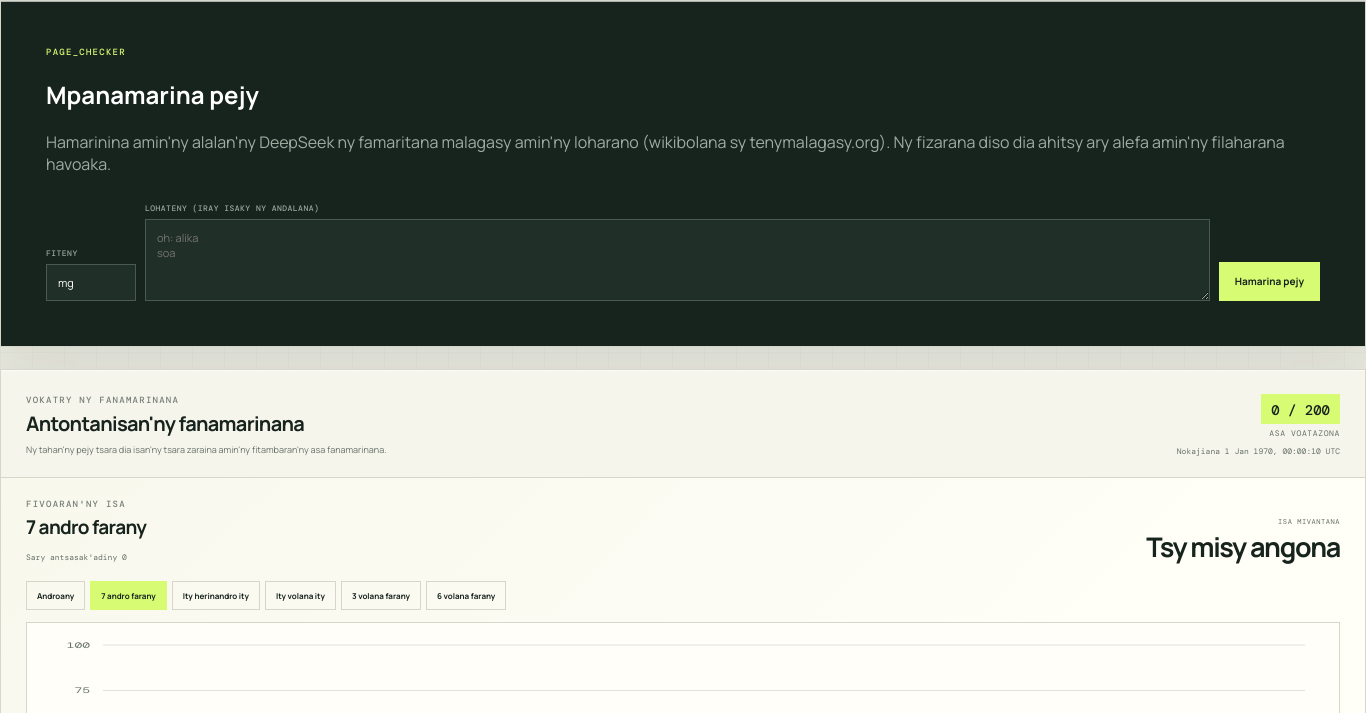
Test case: PageCheckWorkspace › does not show statistics from the previous language while reloading
This screenshot has width=1366, height=713.
Replace the text in the field labelled "Fiteny" with "en" at coordinates (91, 282), box [46,264,136,301]
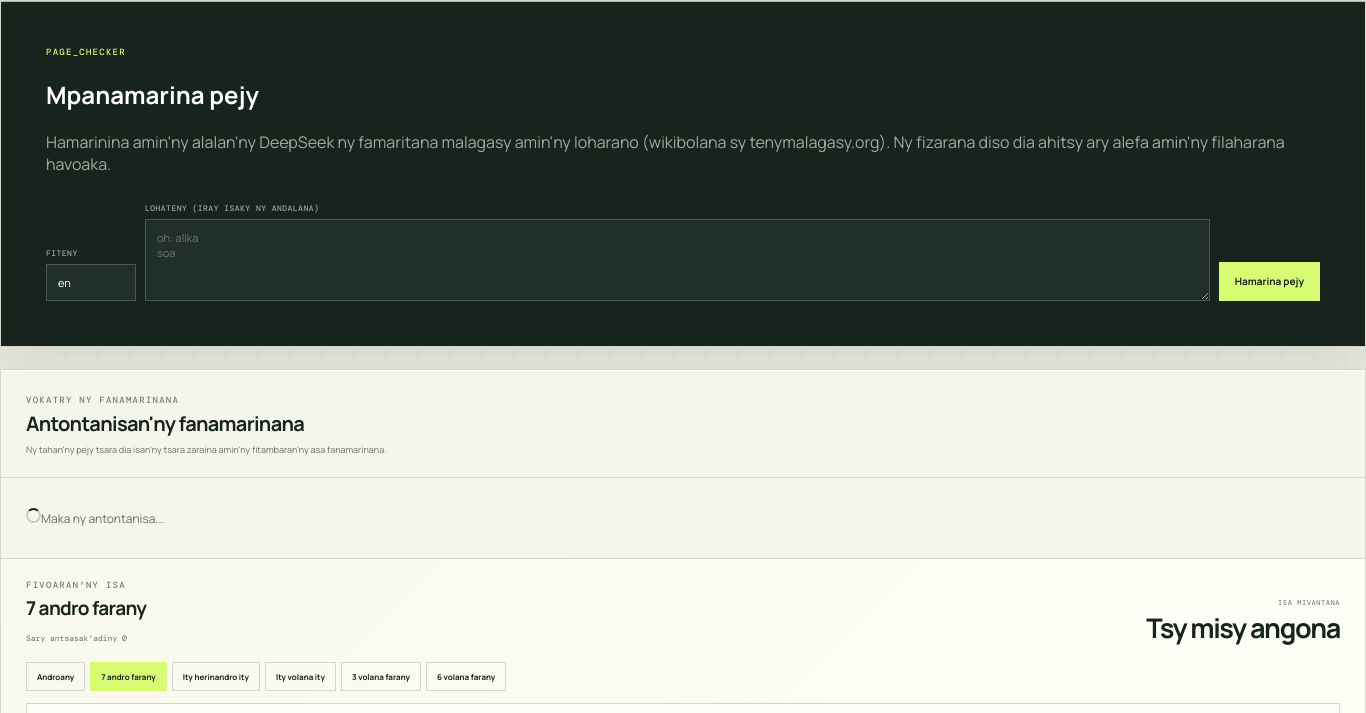
Now the message shows "Maka ny antontanisa", box [41,510,164,527]
